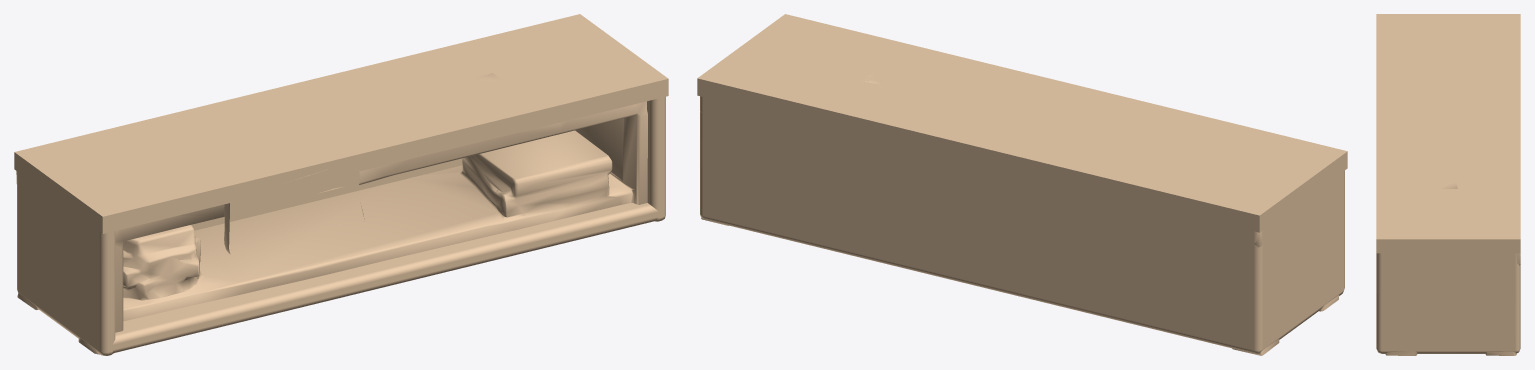
File: show_bedroom_bench.glb
3 renders of one model, left to right at view 1: azimuth 30°, elevation 25°; view 2: azimuth 150°, elevation 25°; view 3: azimuth 270°, elevation 25°, orthographic. The views are drawn at different scales.
Bounding box in the file's own units: 2.4 × 0.58 × 0.65.
